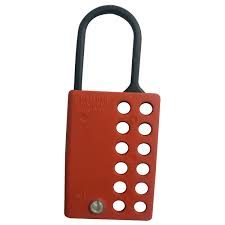hasp: (63, 4, 161, 221)
